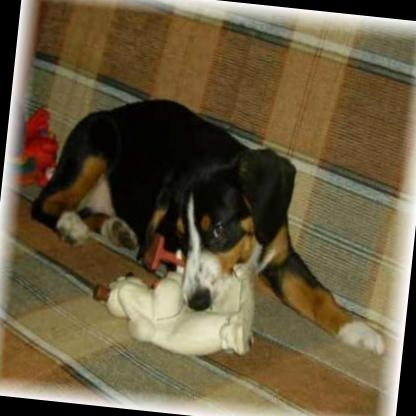EntleBucher: (20, 83, 410, 364)
